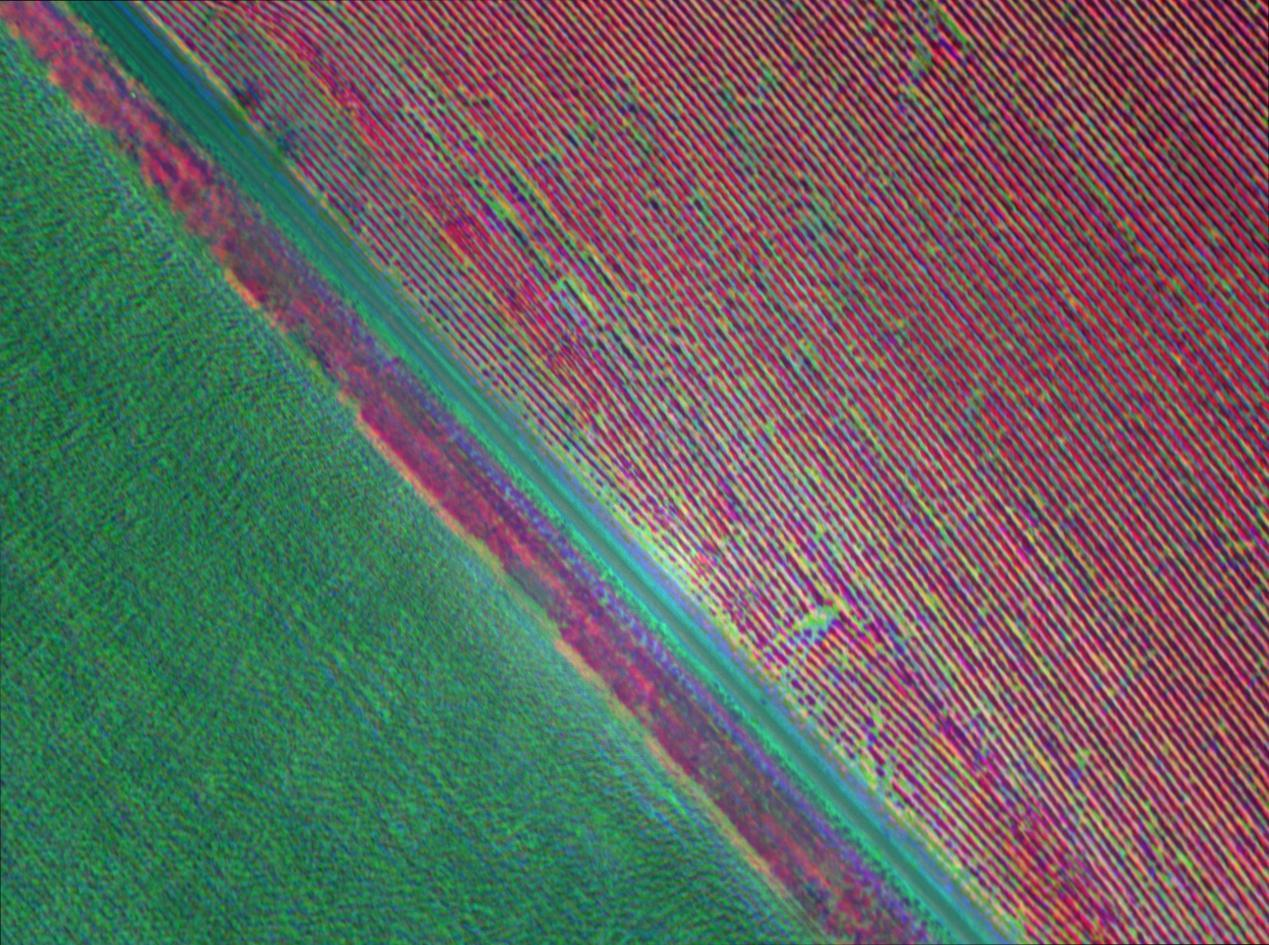dc: (816, 705, 822, 711), (492, 204, 497, 209), (805, 618, 810, 623), (810, 469, 814, 475), (875, 715, 879, 720), (434, 137, 438, 141), (558, 283, 562, 287), (597, 418, 601, 422), (827, 611, 831, 614), (393, 62, 396, 66)
